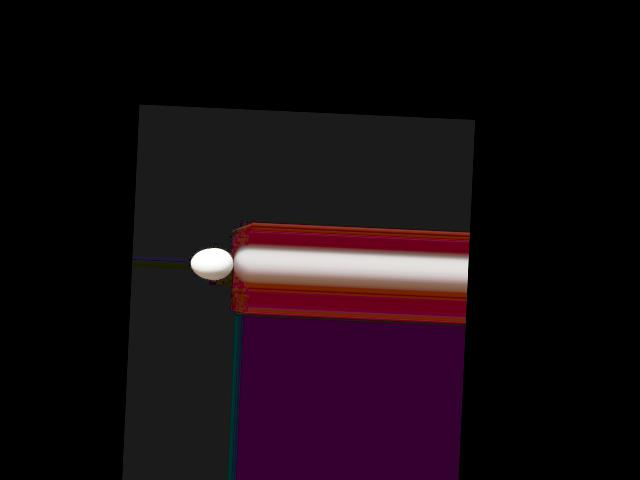egg: (190, 246, 234, 280)
